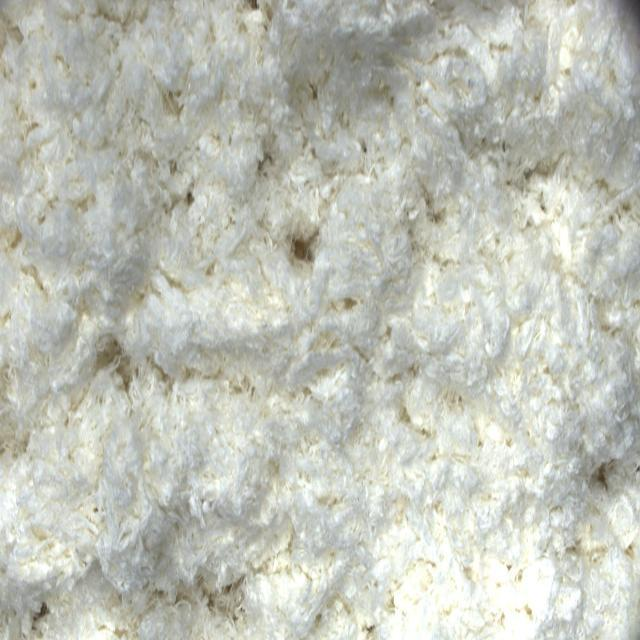dust: (288, 226, 322, 277), (597, 457, 613, 503)
